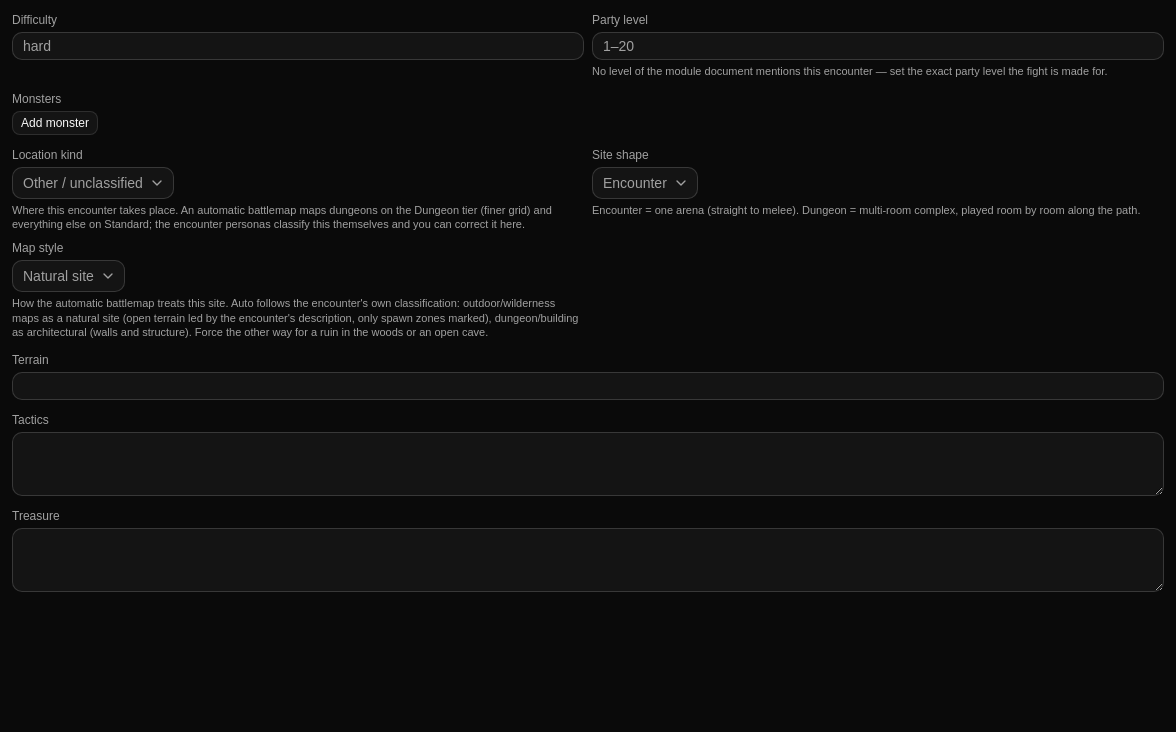
Scenario: encounter form map style override (docs/11 natural-site mode) › writes the forced modes through the controlled harness
The width and height of the screenshot is (1176, 732).
Click the dropdown named "Map style": (68, 276) [12,260,125,292]
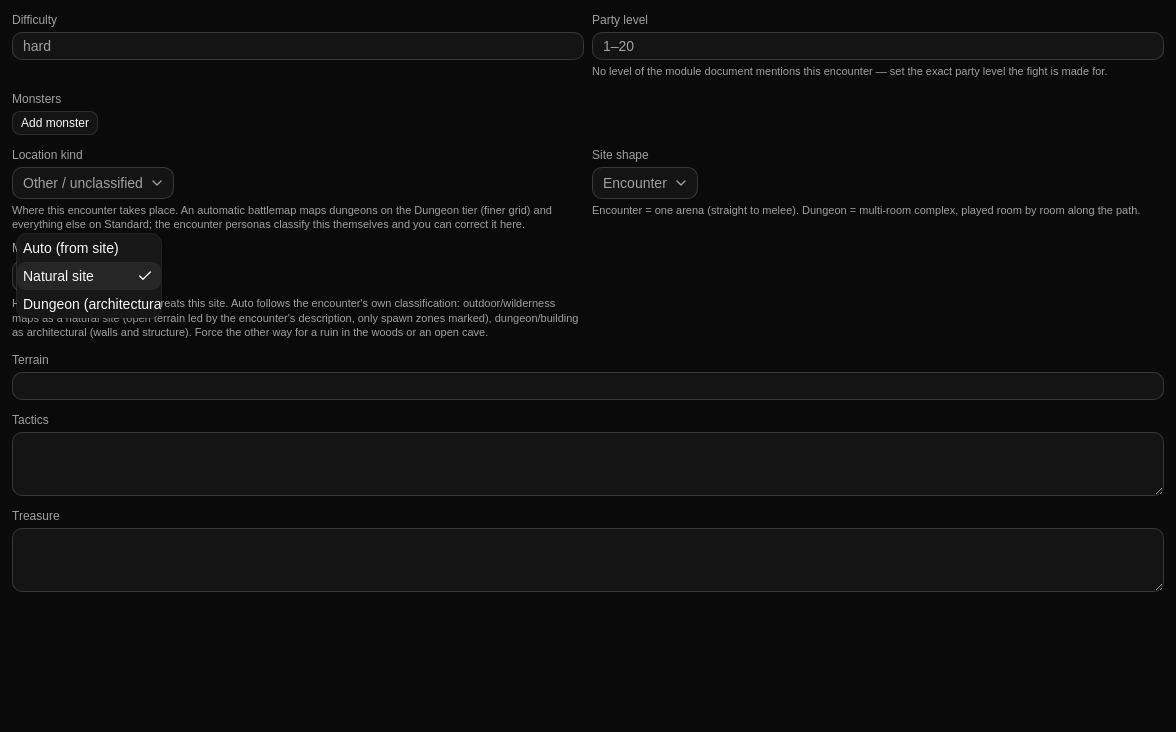
Click the option "Dungeon (architectural)": (96, 304) [23,296,169,312]
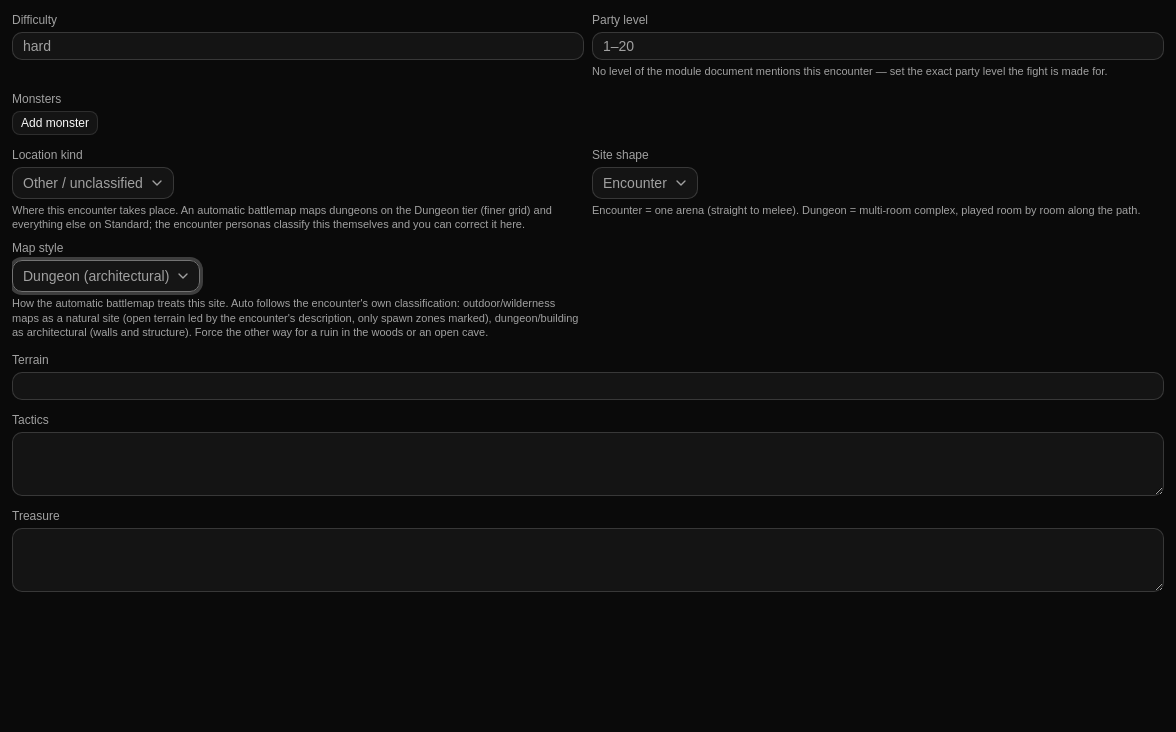
Expected: the dropdown named "Map style" shows "Dungeon", [12,260,200,292]
